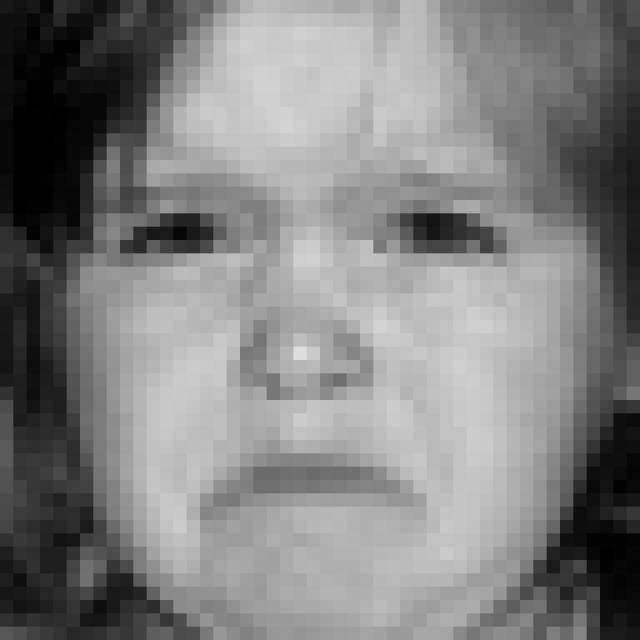sad: (86, 166, 534, 530)
